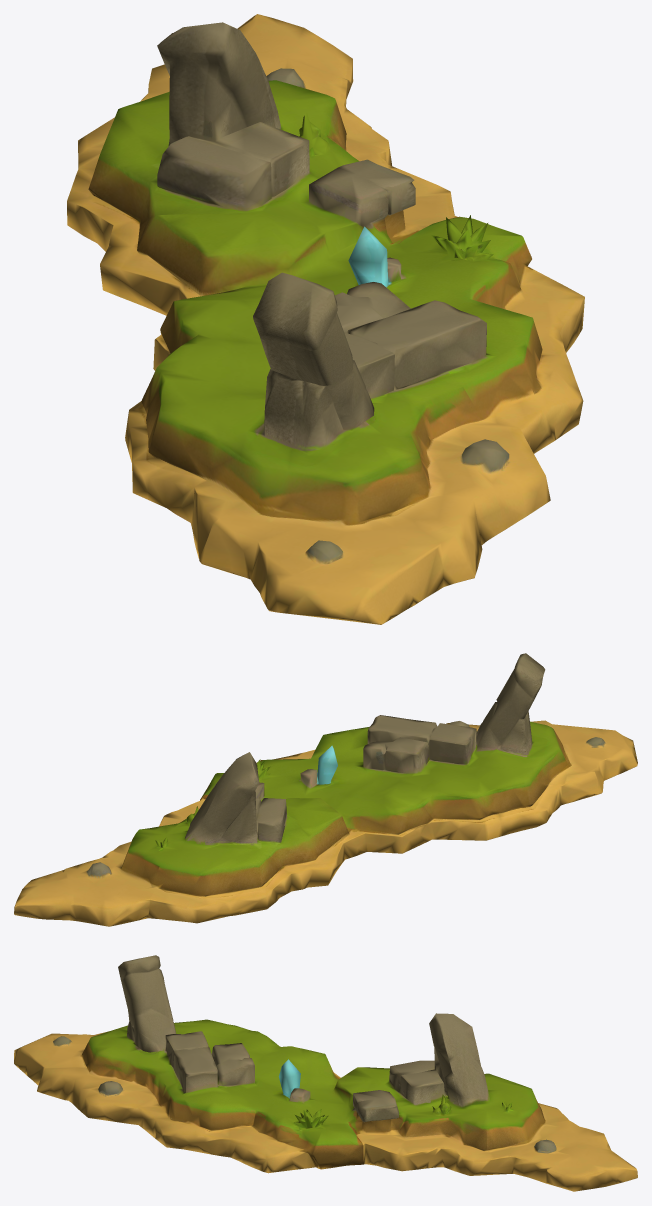
File: island06.glb
The picture shows the model from 3 angles, top to bottom: view 1: azimuth 30°, elevation 25°; view 2: azimuth 150°, elevation 25°; view 3: azimuth 270°, elevation 25°; orthographic projection. The views are drawn at different scales.
Parts seen in each view (by area): view 1: tripo_node_45a60bf2-0ba9-4754-b123-dd48e15a8f93; view 2: tripo_node_45a60bf2-0ba9-4754-b123-dd48e15a8f93; view 3: tripo_node_45a60bf2-0ba9-4754-b123-dd48e15a8f93.
Boxes of the visible parts, <box> form: tripo_node_45a60bf2-0ba9-4754-b123-dd48e15a8f93: <box>67,14,584,624</box>; tripo_node_45a60bf2-0ba9-4754-b123-dd48e15a8f93: <box>14,653,637,926</box>; tripo_node_45a60bf2-0ba9-4754-b123-dd48e15a8f93: <box>14,955,637,1191</box>.
Bounding box in the file's own units: 0.5511 × 0.2078 × 0.9806.
Materials: 1 (1 with a texture image).
